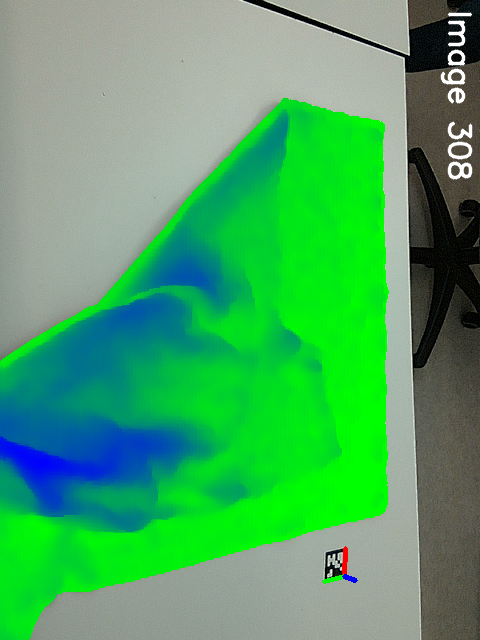V: (299, 426, 354, 481)
